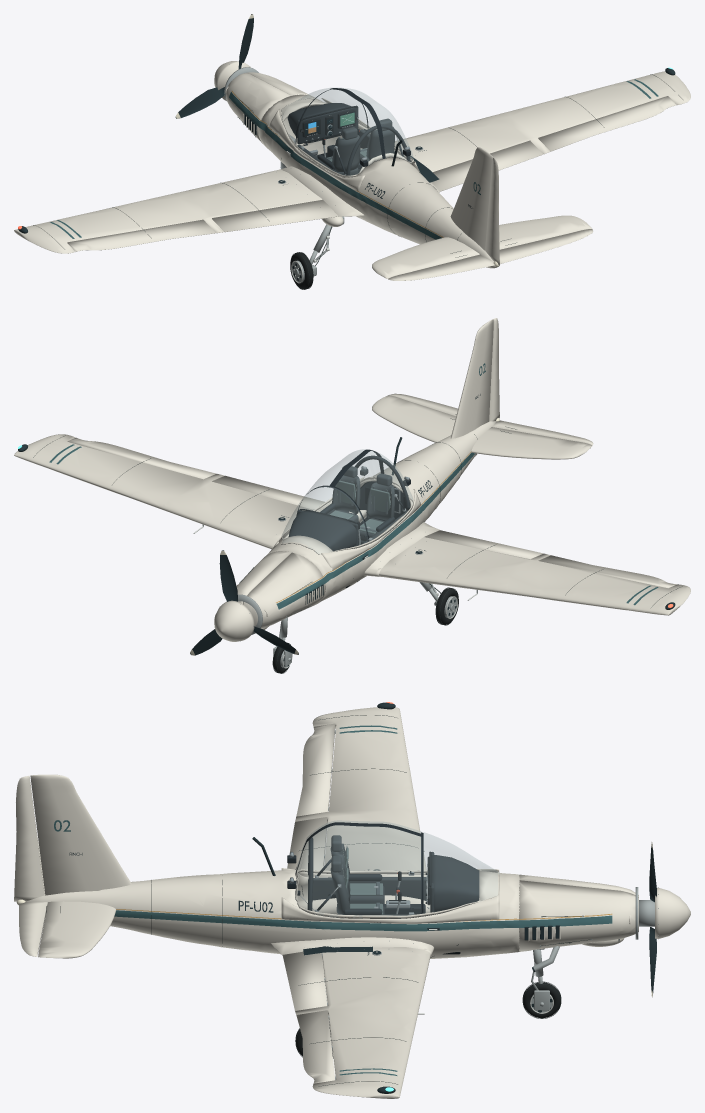
File: finch-u2.glb
3 renders of one model, top to bottom at view 1: azimuth 30°, elevation 25°; view 2: azimuth 150°, elevation 25°; view 3: azimuth 270°, elevation 25°, orthographic. The views are drawn at different scales.
Parts seen in each view (by area): view 1: Fuselage • Paint, Wing_Left • Paint, Wing_Right • Paint, Empennage • Paint, Glass_Cabin_Left, Elevator • Paint, Aileron_Right_skin, Flap_Left_skin, Aileron_Left_skin, Flap_Right_skin, Fuselage • Livery, Glass_Windshield (+11 smaller); view 2: Wing_Left • Paint, Fuselage • Paint, Wing_Right • Paint, Empennage • Paint, Glass_Windshield, Glass_Cabin_Left, Low dashboard coaming, Fuselage • Livery, Propeller, Glass_Cabin_Right, Aerodynamic spinner, Aileron_Right_skin (+9 smaller); view 3: Fuselage • Paint, Wing_Right • Paint, Wing_Left • Paint, Empennage • Paint, Glass_Cabin_Right, Glass_Cabin_Left, Glass_Windshield, Fuselage • Livery, Rudder_skin, Aileron_Left_skin, Low dashboard coaming, Aileron_Right_skin (+14 smaller).
Part boxes in pixels (left/top/right/bottom): Fuselage • Paint: left=225, top=72, right=497, bottom=268; Wing_Left • Paint: left=14, top=166, right=364, bottom=253; Wing_Right • Paint: left=360, top=71, right=690, bottom=192; Empennage • Paint: left=372, top=147, right=592, bottom=278; Glass_Cabin_Left: left=296, top=89, right=381, bottom=176; Elevator • Paint: left=388, top=229, right=593, bottom=280; Aileron_Right_skin: left=538, top=96, right=676, bottom=151; Flap_Left_skin: left=212, top=199, right=338, bottom=232; Aileron_Left_skin: left=67, top=219, right=215, bottom=251; Flap_Right_skin: left=431, top=140, right=543, bottom=191; Fuselage • Livery: left=229, top=92, right=441, bottom=239; Glass_Windshield: left=282, top=88, right=366, bottom=142; Wing_Left • Paint: left=363, top=522, right=690, bottom=615; Fuselage • Paint: left=236, top=421, right=496, bottom=633; Wing_Right • Paint: left=14, top=434, right=366, bottom=549; Empennage • Paint: left=372, top=319, right=592, bottom=459; Glass_Windshield: left=282, top=486, right=367, bottom=553; Glass_Cabin_Left: left=335, top=451, right=412, bottom=543; Low dashboard coaming: left=288, top=511, right=356, bottom=551; Fuselage • Livery: left=250, top=452, right=475, bottom=609; Propeller: left=190, top=550, right=298, bottom=655; Glass_Cabin_Right: left=299, top=449, right=380, bottom=509; Aerodynamic spinner: left=214, top=600, right=254, bottom=641; Aileron_Right_skin: left=67, top=437, right=215, bottom=479; Fuselage • Paint: left=25, top=868, right=638, bottom=958; Wing_Right • Paint: left=271, top=937, right=433, bottom=1098; Wing_Left • Paint: left=295, top=707, right=430, bottom=914; Empennage • Paint: left=30, top=774, right=131, bottom=958; Glass_Cabin_Right: left=296, top=826, right=420, bottom=917; Glass_Cabin_Left: left=296, top=820, right=421, bottom=870; Glass_Windshield: left=423, top=832, right=499, bottom=913; Fuselage • Livery: left=114, top=910, right=612, bottom=931; Rudder_skin: left=14, top=775, right=44, bottom=901; Aileron_Left_skin: left=296, top=723, right=335, bottom=816; Low dashboard coaming: left=431, top=855, right=479, bottom=912; Aileron_Right_skin: left=296, top=1010, right=335, bottom=1083.
Bounding box in the file's own units: 10.98 × 3.22 × 8.09.
